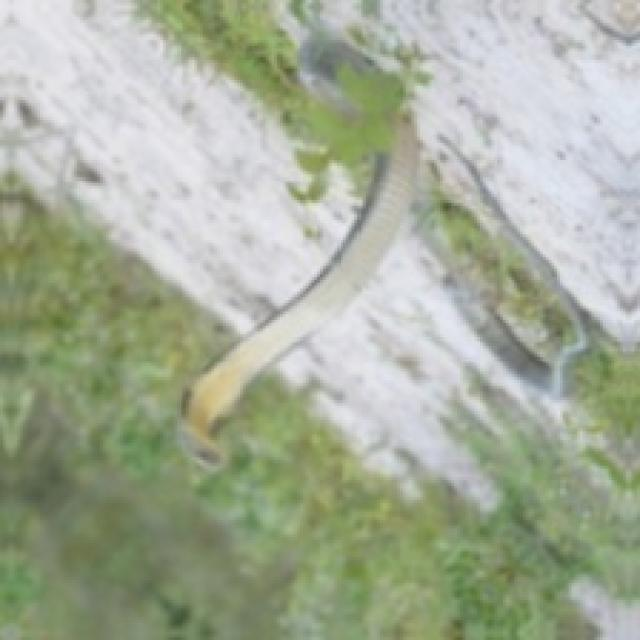king cobra: (183, 114, 417, 460), (183, 114, 414, 463)
